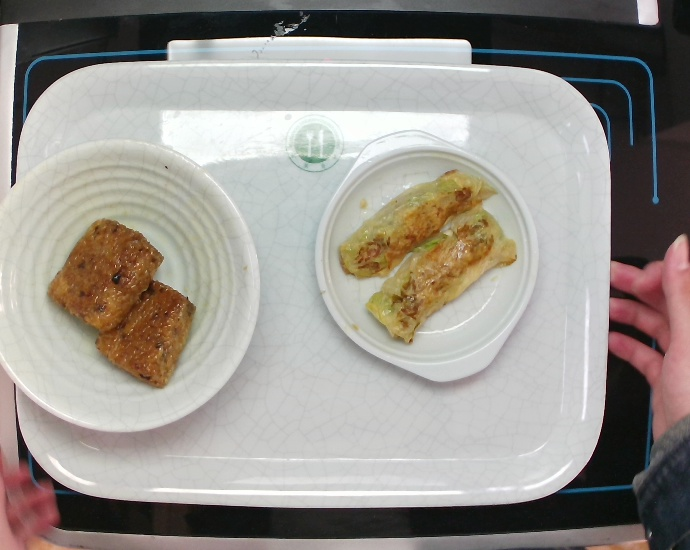JYsf-Shuang_Er_Pan: (314, 122, 540, 385)
JYsf-Xiao_Tang_Wan: (2, 137, 261, 434)
